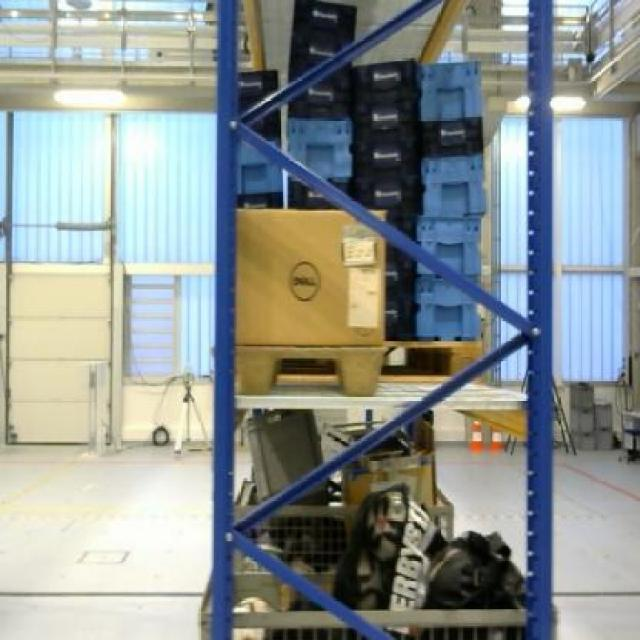box: (232, 206, 386, 348)
